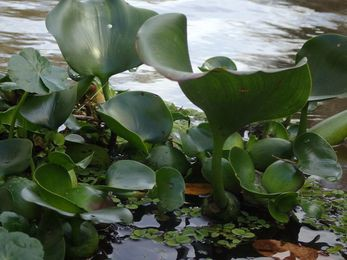water_hyacinth: (0, 0, 347, 243)
